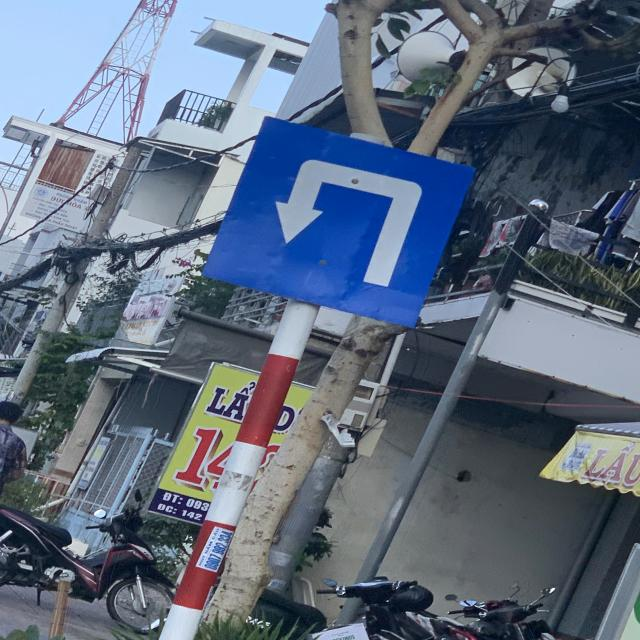Den_Giao_Thong: (200, 117, 467, 329)
